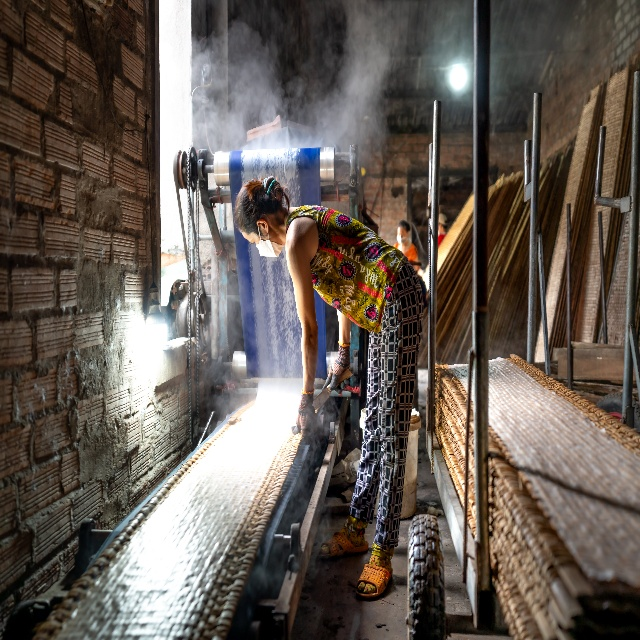Guantes: (322, 341, 351, 395), (296, 388, 318, 440)
Mascara: (255, 224, 283, 258), (396, 234, 407, 243)
